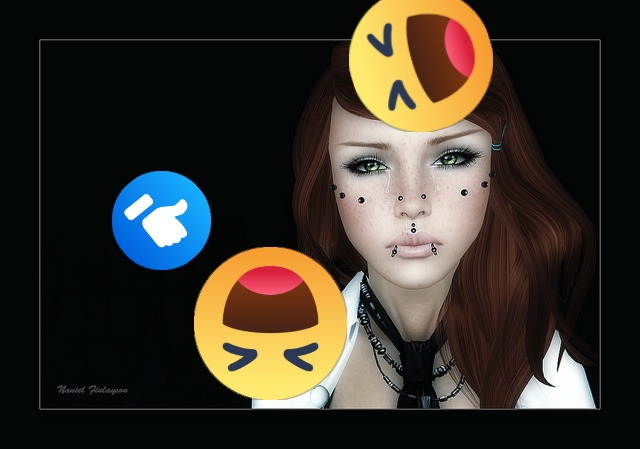haha: (194, 247, 347, 400), (349, 0, 493, 132)
like: (112, 171, 211, 270)
